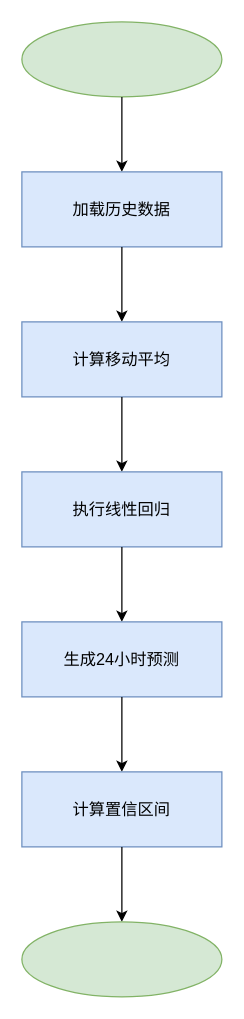
The diagram is 244 pixels wide and 1019 high, and some of its shapes have lost their labels. Here are the shapes that lost their labels. From the top down, the box of each, then its label:
(21, 21, 222, 97): 开始
(21, 921, 222, 997): 返回预测结果
